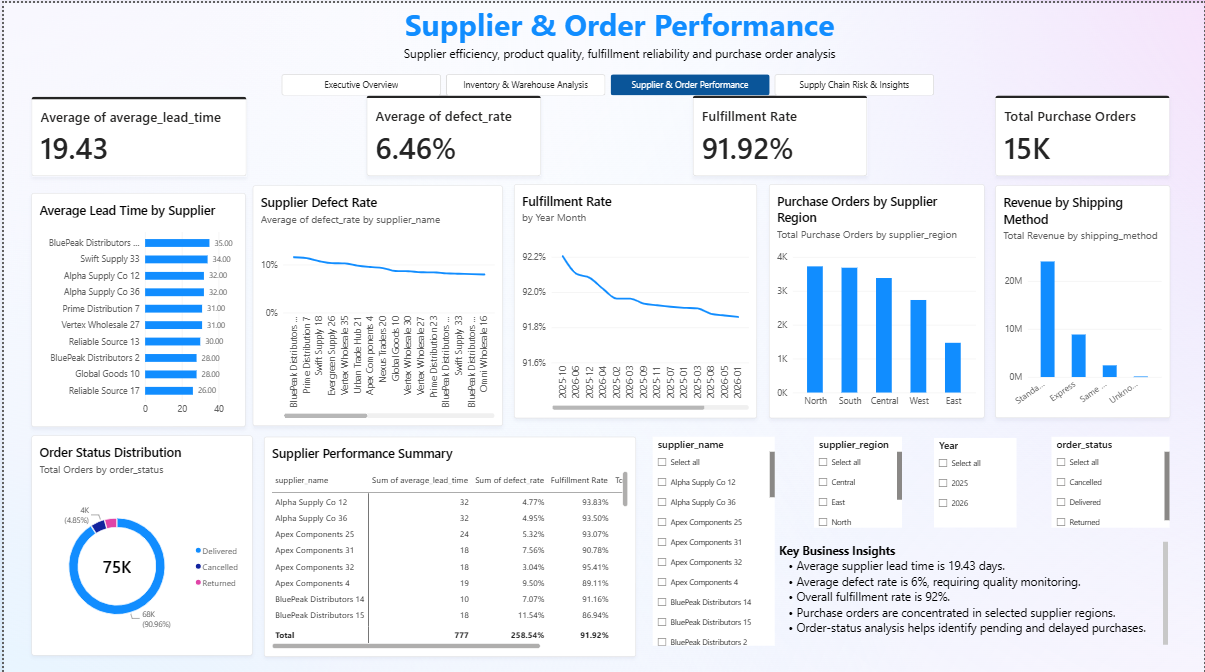

This screenshot's page, from the dashboard's own definition file:
{"tool":"powerbi","page":{"name":"Supplier & Order Performance","canvas":[1920,1080],"ordinal":2},"visuals":[{"type":"cardVisual","fields":{"Data":["Avg(suppliers.average_lead_time)"]},"box":[44.4,150,344.4,127.8],"z":0},{"type":"cardVisual","fields":{"Data":["Avg(suppliers.defect_rate)"]},"box":[579.6,148.1,279.6,129.6],"z":1000},{"type":"cardVisual","fields":{"Data":["supplier_orders.Fulfillment Rate"]},"box":[1101.9,148.1,279.6,129.6],"z":2000},{"type":"cardVisual","fields":{"Data":["supplier_orders.Total Purchase Orders"]},"box":[1585.2,148.1,279.6,129.6],"z":3000},{"type":"clusteredBarChart","title":"Average Lead Time by Supplier","fields":{"Category":["suppliers.supplier_name"],"Y":["Avg(suppliers.average_lead_time)"]},"box":[44.4,303.7,342.6,374.1],"z":4000},{"type":"lineChart","title":"Supplier Defect Rate","fields":{"Category":["suppliers.supplier_name"],"Y":["Avg(suppliers.defect_rate)"]},"box":[398.1,292.6,400,385.2],"z":5000},{"type":"lineChart","fields":{"Category":["DateTable.Year Month"],"Y":["supplier_orders.Fulfillment Rate"]},"box":[816.7,290.7,388.9,374.1],"z":6000},{"type":"donutChart","title":"Order Status Distribution","fields":{"Category":["orders.order_status"],"Y":["orders.Total Orders"]},"box":[44.4,692.6,353.7,351.9],"z":7000},{"type":"clusteredColumnChart","title":"Revenue by Shipping Method","fields":{"Category":["orders.shipping_method"],"Y":["orders.Total Revenue"]},"box":[1585.2,292.6,279.6,372.2],"z":8000},{"type":"clusteredColumnChart","title":"Purchase Orders by Supplier Region","fields":{"Category":["suppliers.supplier_region"],"Y":["supplier_orders.Total Purchase Orders"]},"box":[1224.1,290.7,344.4,374.1],"z":9000},{"type":"slicer","fields":{"Values":["suppliers.supplier_region"]},"box":[1295.6,693.3,140.9,145.5],"z":10000},{"type":"slicer","fields":{"Values":["suppliers.supplier_name"]},"box":[1038.6,693.2,195.5,334.1],"z":11000},{"type":"slicer","fields":{"Values":["orders.order_status"]},"box":[1675.6,693.3,188.6,145.5],"z":12000},{"type":"slicer","fields":{"Values":["DateTable.Year"]},"box":[1488.9,695.6,131.8,143.2],"z":13000},{"type":"textbox","box":[150,0,1670,68],"z":14000},{"type":"pivotTable","title":"Supplier Performance Summary","fields":{"Rows":["suppliers.supplier_name"],"Values":["Sum(suppliers.average_lead_time)","Sum(suppliers.defect_rate)","supplier_orders.Fulfillment Rate","supplier_orders.Total Purchase Orders"]},"box":[415.9,693.2,595.5,352.3],"z":15000},{"type":"textbox","box":[632,68,706,46],"z":16000},{"type":"textbox","box":[1240.9,861.4,622.7,165.9],"z":17000},{"type":"pageNavigator","box":[444,114,1044,34],"z":17001}]}

Visuals, with their boxes in screenshot pixels (x1, y1, x2, y2), scaled from the page's 1920x1080 canvas onto the 1205x672 screenshot:
cardVisual - Avg(suppliers.average_lead_time): Rect(28, 93, 244, 173)
cardVisual - Avg(suppliers.defect_rate): Rect(364, 92, 539, 173)
cardVisual - supplier_orders.Fulfillment Rate: Rect(692, 92, 867, 173)
cardVisual - supplier_orders.Total Purchase Orders: Rect(995, 92, 1170, 173)
"Average Lead Time by Supplier" clusteredBarChart: Rect(28, 189, 243, 422)
"Supplier Defect Rate" lineChart: Rect(250, 182, 501, 422)
lineChart - DateTable.Year Month x supplier_orders.Fulfillment Rate: Rect(513, 181, 757, 414)
"Order Status Distribution" donutChart: Rect(28, 431, 250, 650)
"Revenue by Shipping Method" clusteredColumnChart: Rect(995, 182, 1170, 414)
"Purchase Orders by Supplier Region" clusteredColumnChart: Rect(768, 181, 984, 414)
slicer - suppliers.supplier_region: Rect(813, 431, 902, 522)
slicer - suppliers.supplier_name: Rect(652, 431, 775, 639)
slicer - orders.order_status: Rect(1052, 431, 1170, 522)
slicer - DateTable.Year: Rect(934, 433, 1017, 522)
textbox: Rect(94, 0, 1142, 42)
"Supplier Performance Summary" pivotTable: Rect(261, 431, 635, 651)
textbox: Rect(397, 42, 840, 71)
textbox: Rect(779, 536, 1170, 639)
pageNavigator: Rect(279, 71, 934, 92)
